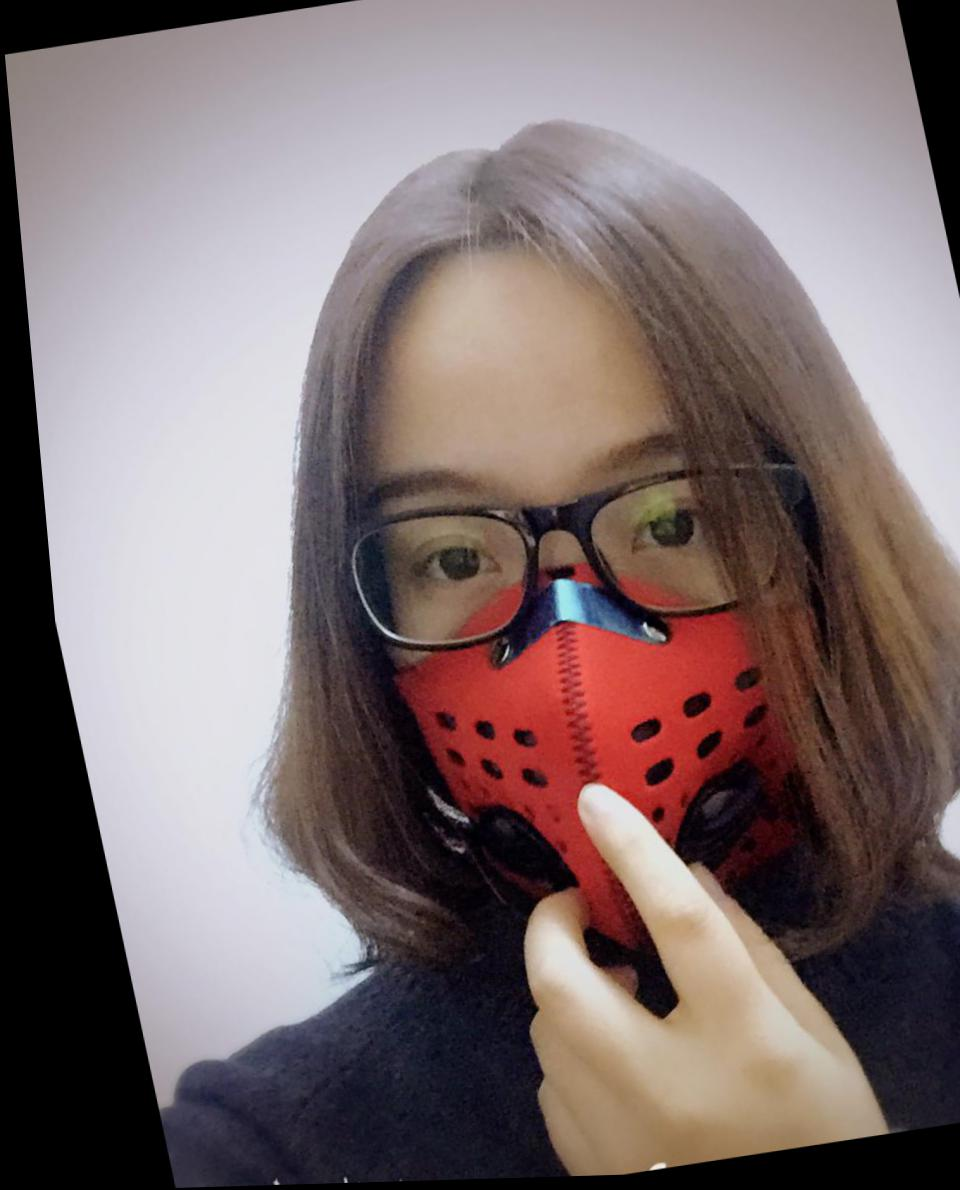OK: (323, 392, 868, 976)
